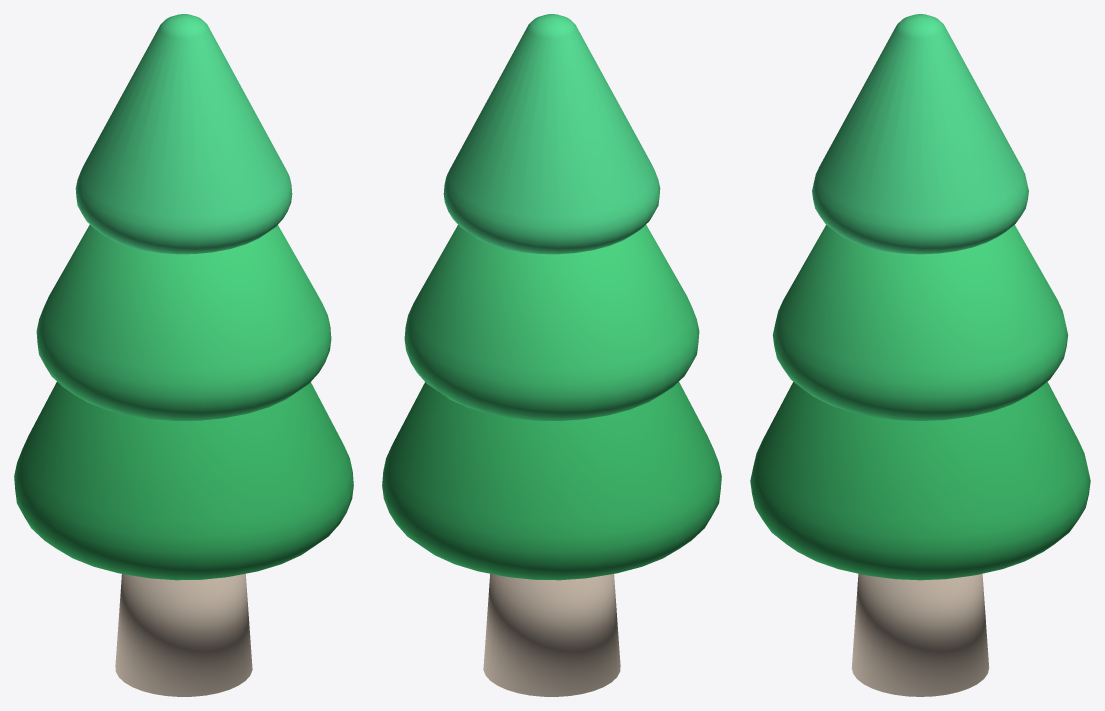
Rendered from Tree1 1.fbx.
The picture shows the model from 3 angles, left to right: view 1: azimuth 30°, elevation 25°; view 2: azimuth 150°, elevation 25°; view 3: azimuth 270°, elevation 25°; orthographic projection.
Parts seen in each view (by area): view 1: Cone.006; view 2: Cone.006; view 3: Cone.006.
Part boxes in pixels (x1=…): Cone.006: x1=14, y1=14, x2=353, y2=696; Cone.006: x1=382, y1=14, x2=721, y2=696; Cone.006: x1=750, y1=14, x2=1090, y2=696.
Bounding box in the file's own units: 59.36 × 125 × 59.36.
